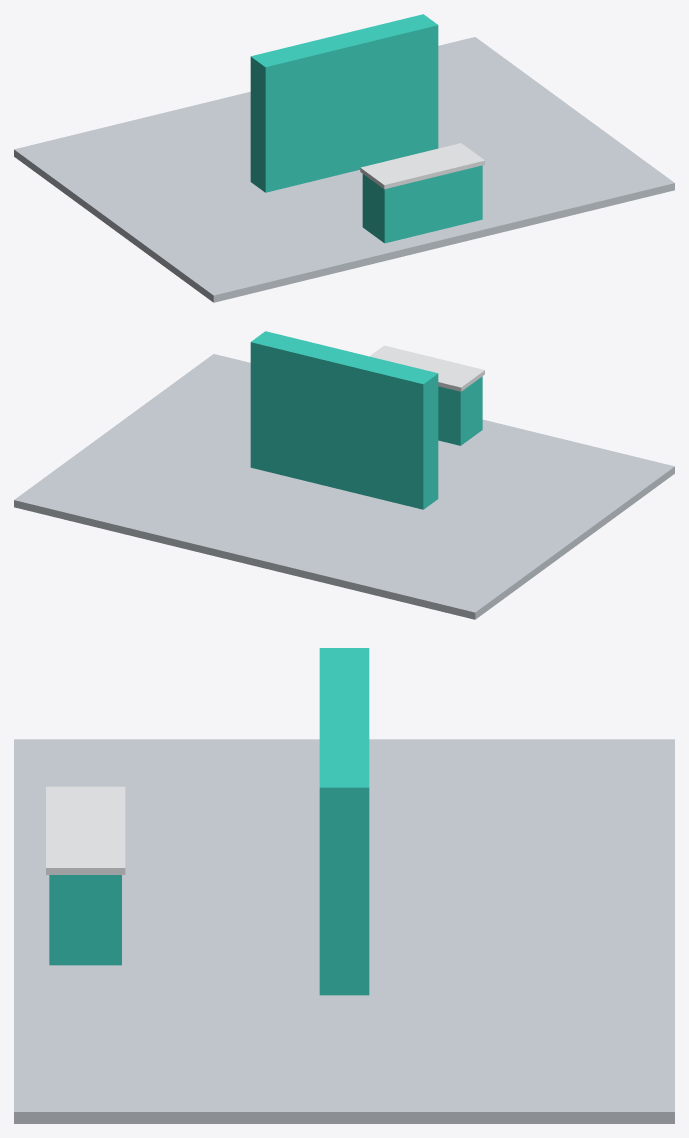
3 views of the same model, one above another, from view 1: azimuth 30°, elevation 25°; view 2: azimuth 150°, elevation 25°; view 3: azimuth 270°, elevation 25° (orthographic). The views are drawn at different scales.
Visible parts, largest first — view 1: Exhibition Booth Concept; view 2: Exhibition Booth Concept; view 3: Exhibition Booth Concept.
Boxes of the visible parts, x1,y1,x2,y2 form: Exhibition Booth Concept: (14, 14, 674, 302); Exhibition Booth Concept: (14, 331, 674, 619); Exhibition Booth Concept: (14, 648, 674, 1123).
Bounding box in the file's own units: 8 × 2.2 × 6.
